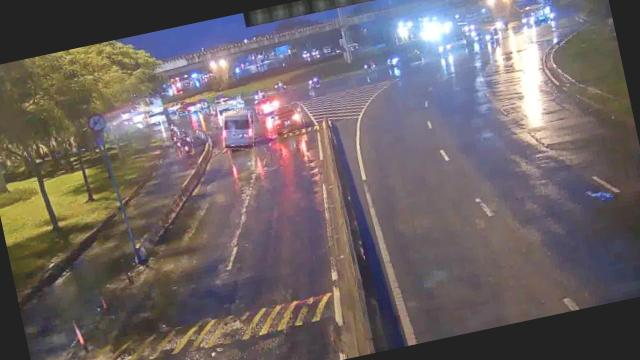Bike: (178, 134, 194, 156)
Bus: (218, 107, 260, 153)
Car: (264, 102, 306, 136)
